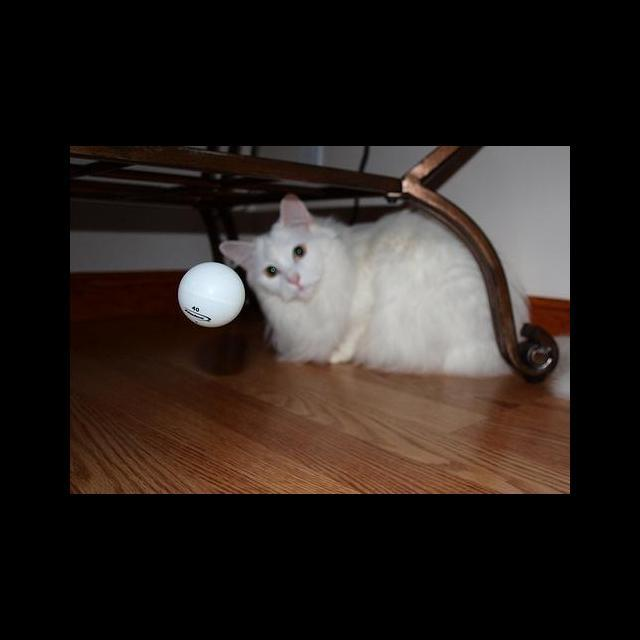ping-pong-ball: (178, 260, 246, 328)
